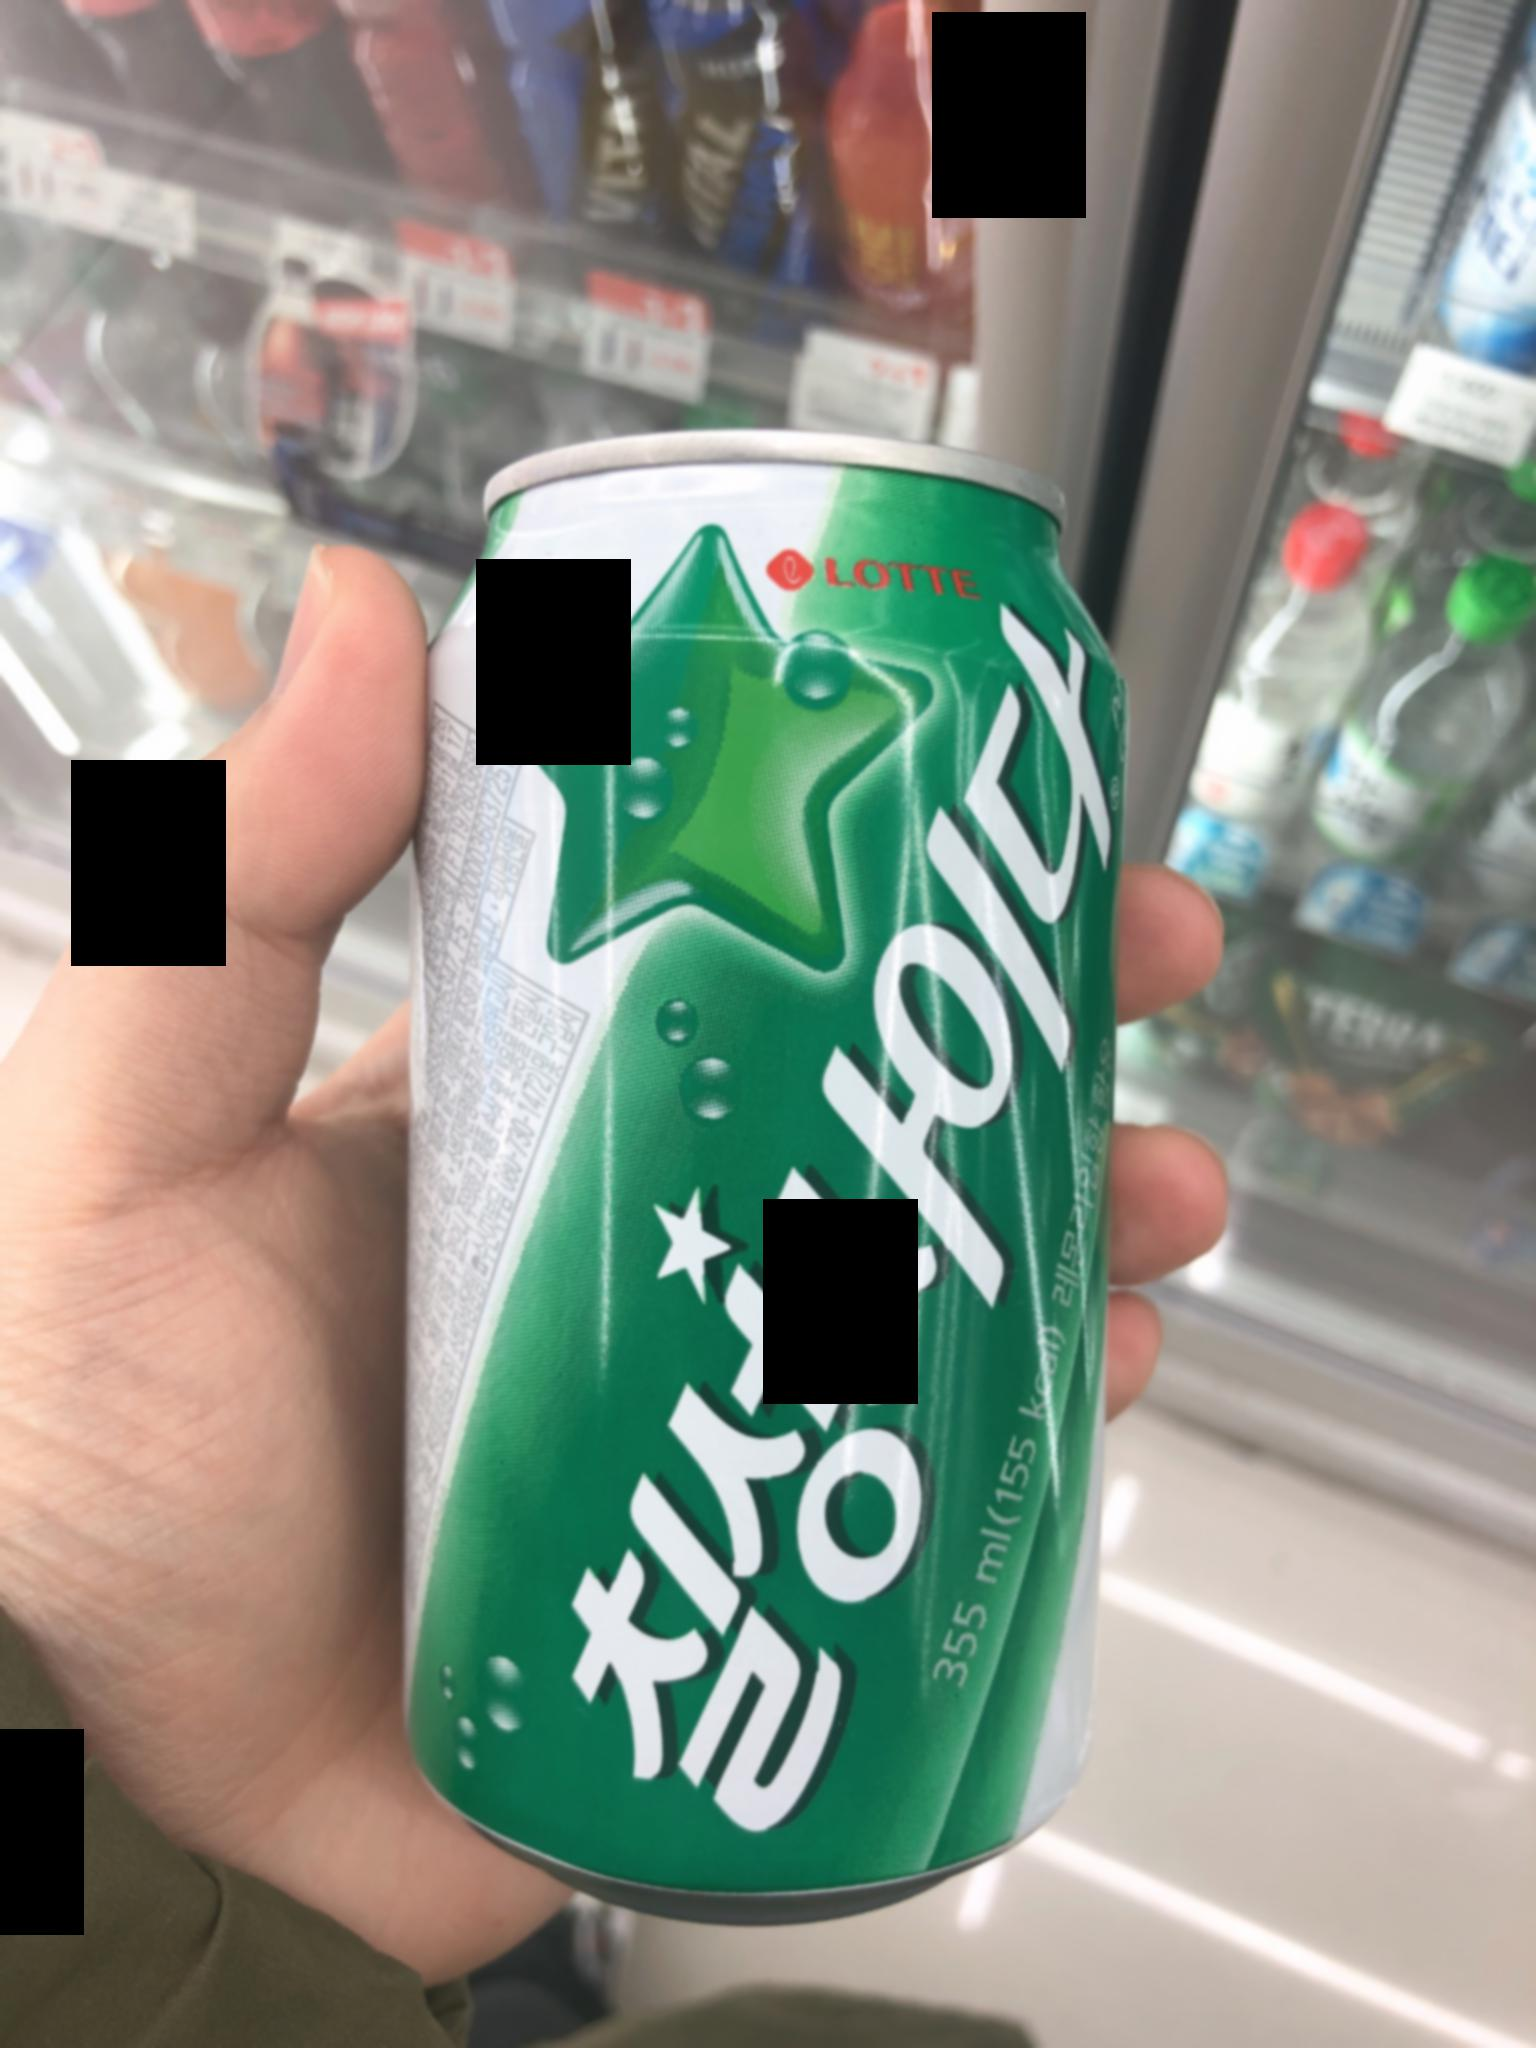chilsungcider: (316, 377, 1191, 1925)
